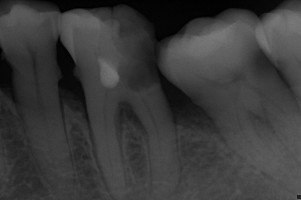Endo-Periodontal Lesion: (118, 102, 145, 132)
